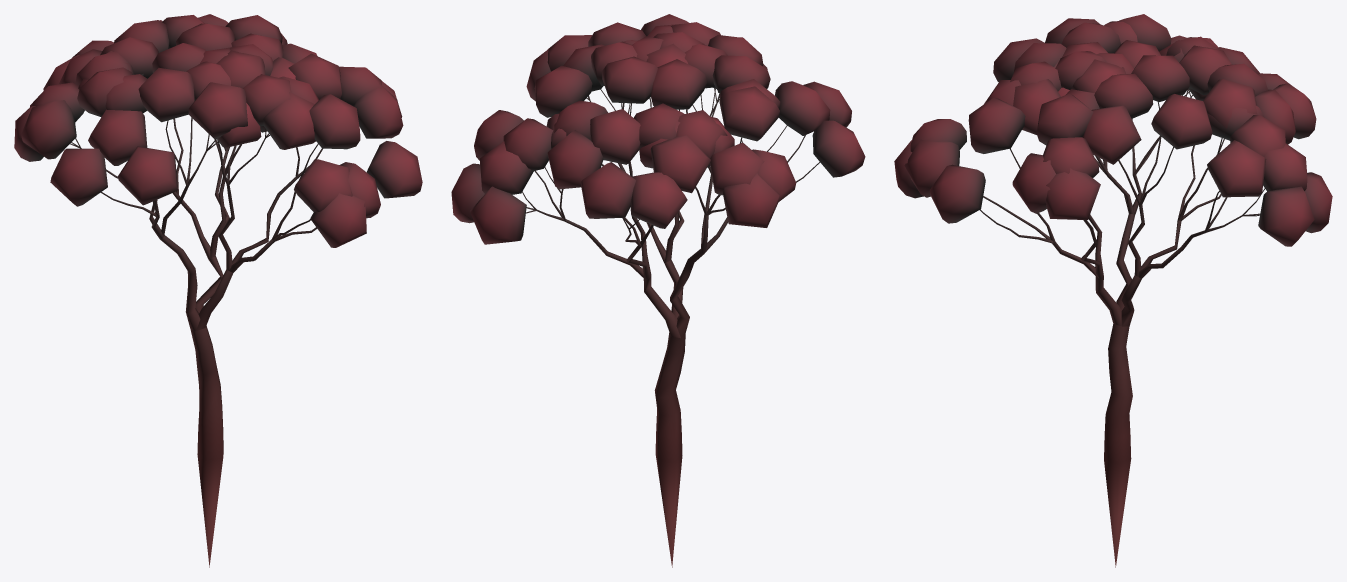
Rendered from plants-trees-palms-red-umbrella-tree_v5.glb.
The picture shows the model from 3 angles, left to right: view 1: azimuth 30°, elevation 25°; view 2: azimuth 150°, elevation 25°; view 3: azimuth 270°, elevation 25°; orthographic projection.
Parts seen in each view (by area): view 1: Red Umbrella Tree_v5; view 2: Red Umbrella Tree_v5; view 3: Red Umbrella Tree_v5.
Boxes of the visible parts, x1=… form: Red Umbrella Tree_v5: x1=14, y1=14, x2=422, y2=567; Red Umbrella Tree_v5: x1=451, y1=14, x2=865, y2=567; Red Umbrella Tree_v5: x1=894, y1=14, x2=1332, y2=567.
Bounding box in the file's own units: 3.33 × 5 × 3.8.
